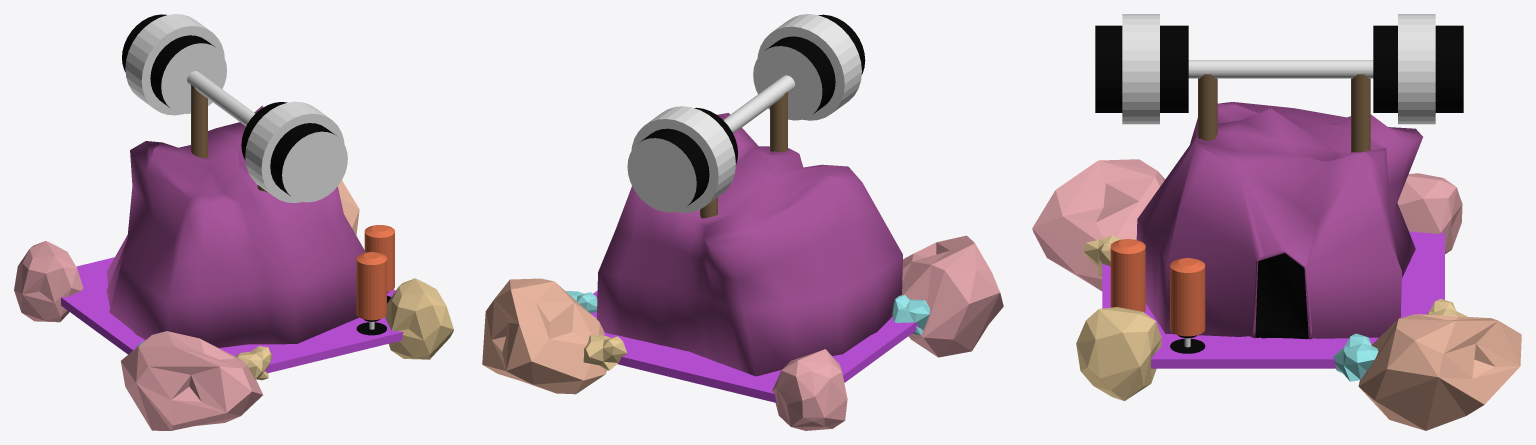
Rendered from ProdutoraMermaoTier2Final.fbx.
3 views of the same model, side by side, from view 1: azimuth 30°, elevation 25°; view 2: azimuth 150°, elevation 25°; view 3: azimuth 270°, elevation 25° (orthographic). The views are drawn at different scales.
Parts seen in each view (by area): view 1: ProdutoraMermãoTierII; view 2: ProdutoraMermãoTierII; view 3: ProdutoraMermãoTierII.
Boxes of the visible parts, x1,y1,x2,y2 form: ProdutoraMermãoTierII: [14, 14, 453, 430]; ProdutoraMermãoTierII: [482, 14, 1003, 430]; ProdutoraMermãoTierII: [1032, 14, 1521, 430].
Bounding box in the file's own units: 562 × 442 × 595.
